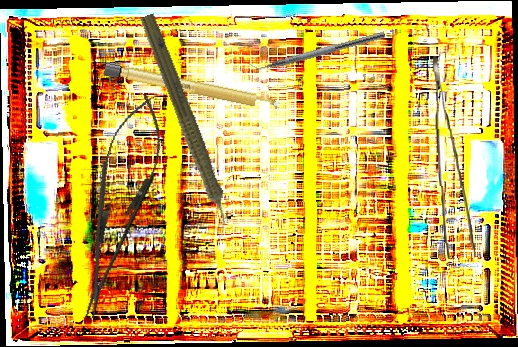Chopper: (244, 21, 386, 78)
Handpiece: (131, 11, 241, 241)
Needle Holder: (61, 88, 176, 324)
Scalpel Handle: (103, 61, 281, 114)
Tissue Forceps: (433, 55, 475, 260)
